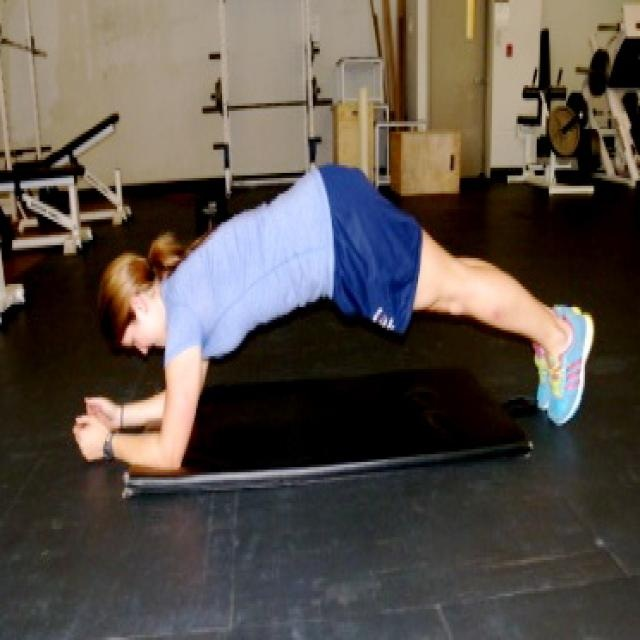plank: (69, 156, 601, 486)
